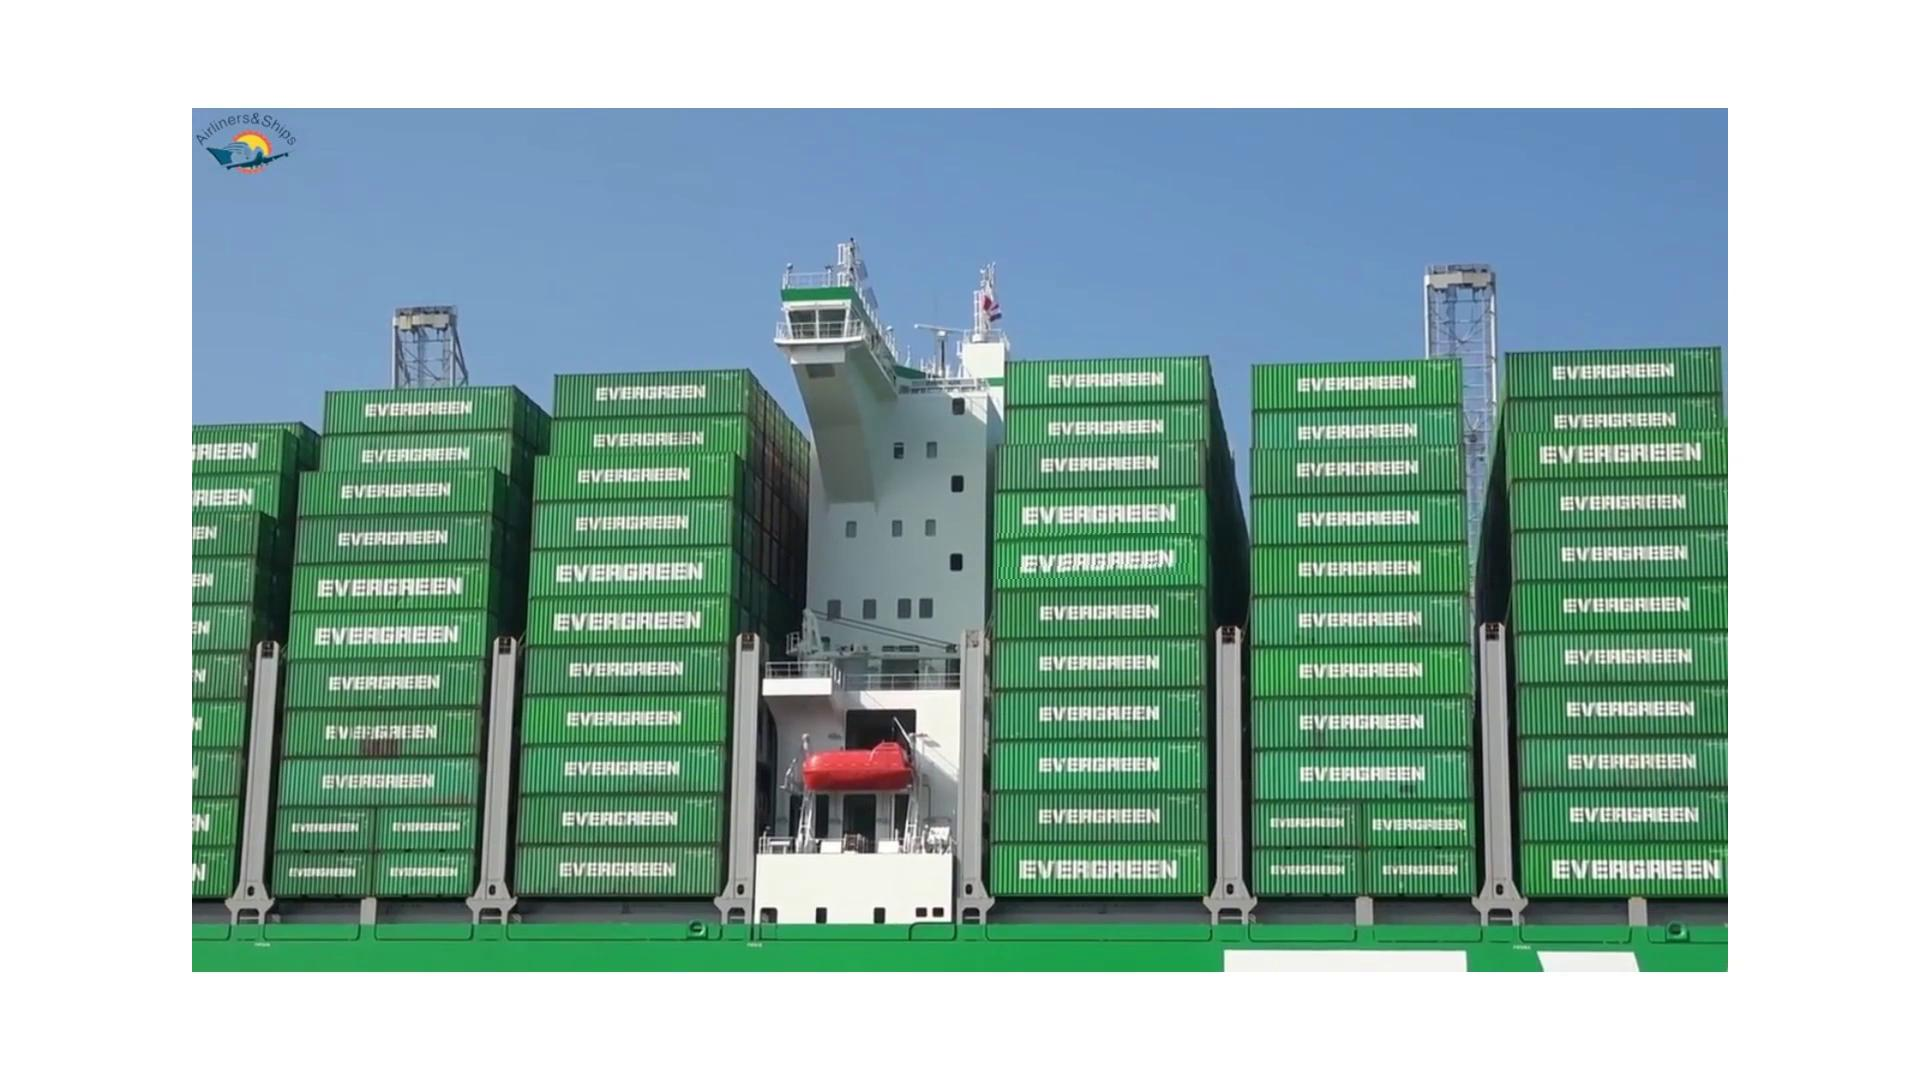OCR: (997, 533, 1192, 579)
